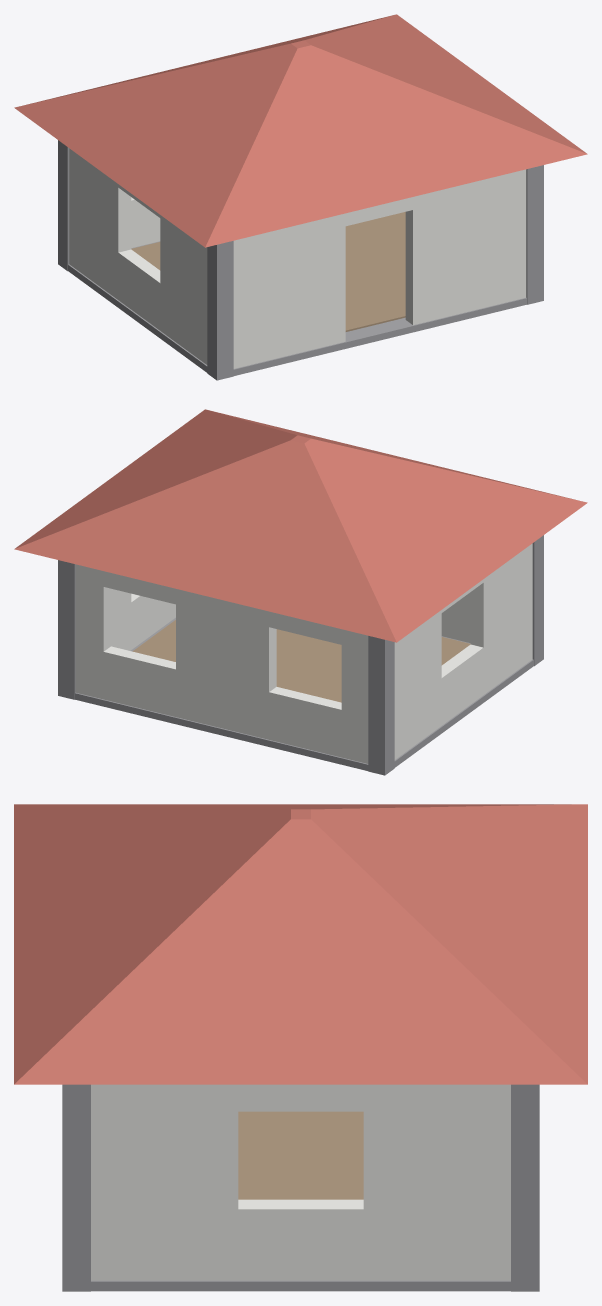
File: keeper_house.glb
The picture shows the model from 3 angles, top to bottom: view 1: azimuth 30°, elevation 25°; view 2: azimuth 150°, elevation 25°; view 3: azimuth 270°, elevation 25°; orthographic projection. The views are drawn at different scales.
Visible parts, largest first — view 1: keeper_house; view 2: keeper_house; view 3: keeper_house.
Boxes of the visible parts, x1=… form: keeper_house: x1=14, y1=14, x2=587, y2=380; keeper_house: x1=14, y1=409, x2=587, y2=775; keeper_house: x1=14, y1=804, x2=587, y2=1291.
Size of the model in its own units: 7.4 by 4.4 by 6.4.
